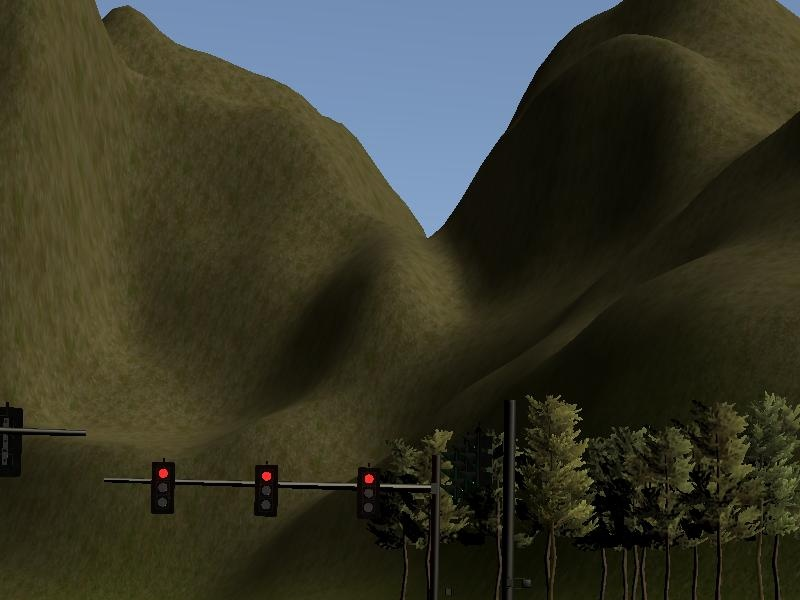red: (250, 462, 280, 516), (355, 465, 382, 520), (151, 461, 176, 515)
